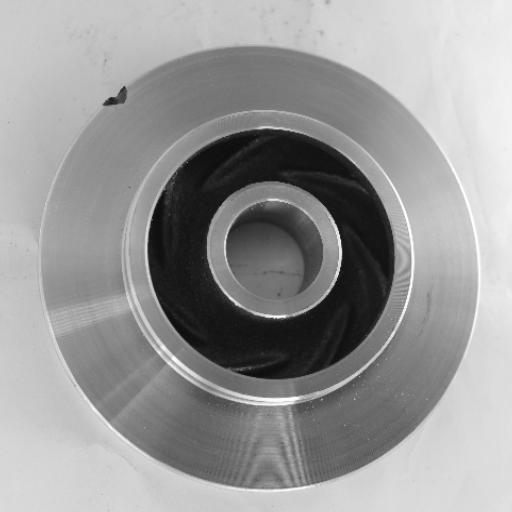crack: (93, 80, 145, 119)
unpolished_casting: (35, 46, 478, 494)
